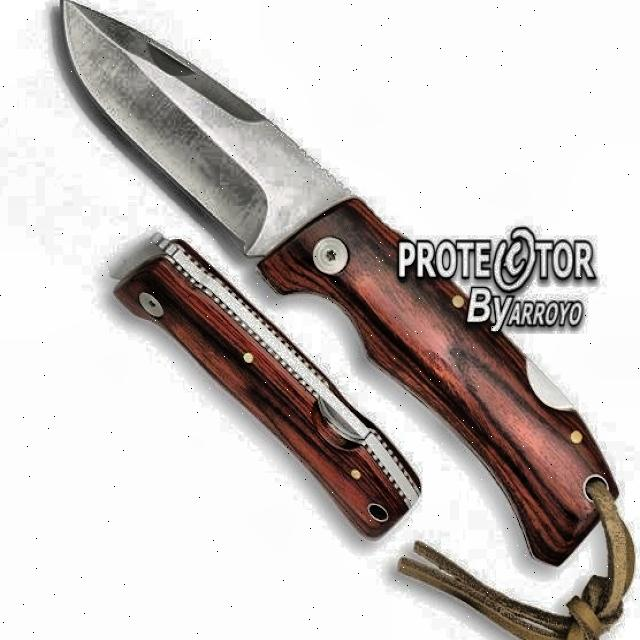knife: (60, 0, 616, 564), (111, 232, 418, 540)
